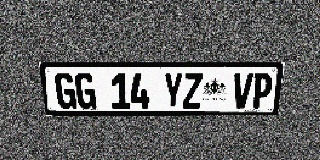1: (110, 73, 130, 109)
4: (130, 73, 150, 109)
G: (54, 73, 77, 109), (74, 73, 97, 109)
P: (251, 73, 273, 108)
V: (231, 73, 254, 108)
Y: (163, 73, 183, 109)
Z: (183, 73, 203, 108)
